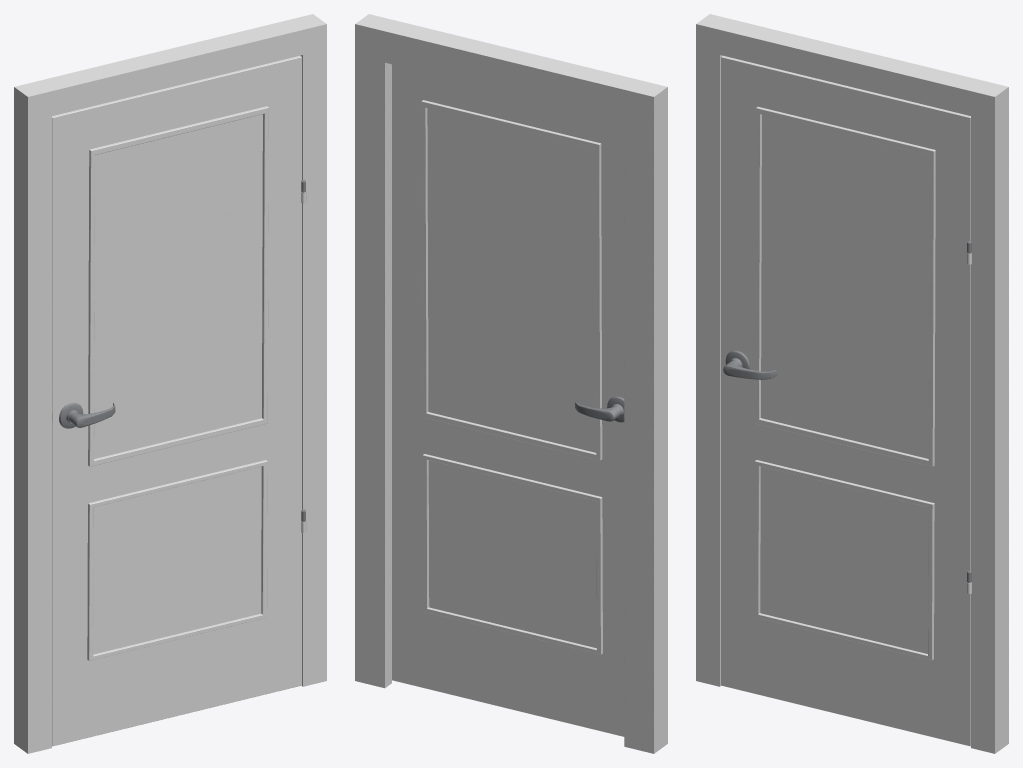
Rendered from door.fbx.
The picture shows the model from 3 angles, left to right: view 1: azimuth 30°, elevation 25°; view 2: azimuth 150°, elevation 25°; view 3: azimuth 330°, elevation 25°; orthographic projection.
Visible parts, largest first — view 1: Door, Door_frame, Handle; view 2: Door, Door_frame, Handle; view 3: Door, Door_frame, Handle.
Part boxes in pixels (x1,y1,x2,y2): Door: (52, 55, 305, 746); Door_frame: (14, 14, 326, 753); Handle: (59, 402, 115, 428); Door: (392, 64, 624, 736); Door_frame: (355, 14, 667, 753); Handle: (575, 396, 624, 422); Door: (721, 55, 971, 746); Door_frame: (696, 14, 1008, 753); Handle: (723, 350, 777, 379).
Bounding box in the file's own units: 1 × 2.1 × 0.1611.
